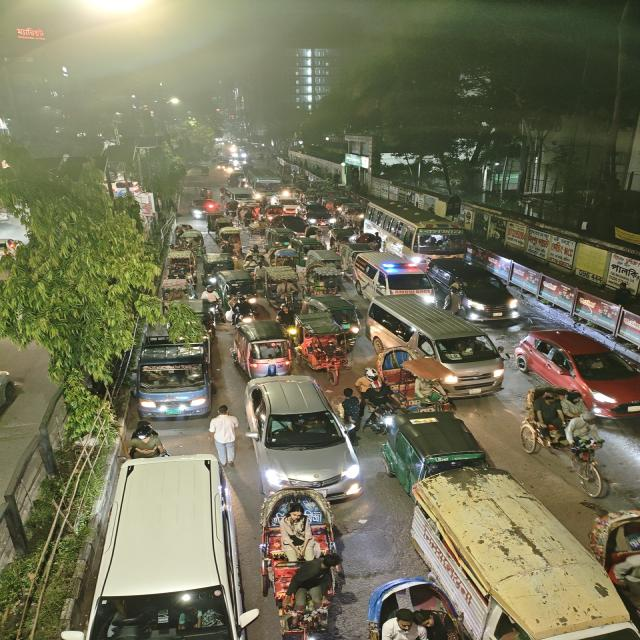bus: (363, 200, 467, 262), (245, 168, 288, 202)
car: (95, 455, 245, 640), (243, 374, 360, 498), (366, 296, 509, 396), (520, 328, 640, 416), (428, 258, 520, 322), (349, 250, 432, 298), (270, 215, 318, 238), (304, 205, 337, 227), (184, 199, 218, 220), (220, 188, 256, 206), (276, 200, 302, 214)
cng: (130, 337, 214, 420), (383, 417, 479, 476), (231, 324, 296, 378), (303, 250, 346, 296), (324, 290, 368, 333), (220, 271, 256, 300), (201, 253, 237, 277), (268, 228, 295, 249)
human_hauler: (404, 466, 639, 640)
motorcycle: (124, 420, 168, 458), (230, 297, 258, 327), (276, 303, 300, 337)
pedestrian: (205, 404, 241, 464), (340, 387, 366, 431)
rickshaw: (257, 485, 345, 634), (518, 384, 612, 494), (581, 500, 640, 590), (300, 317, 354, 383), (379, 368, 451, 414), (303, 250, 346, 296), (262, 264, 295, 308)
